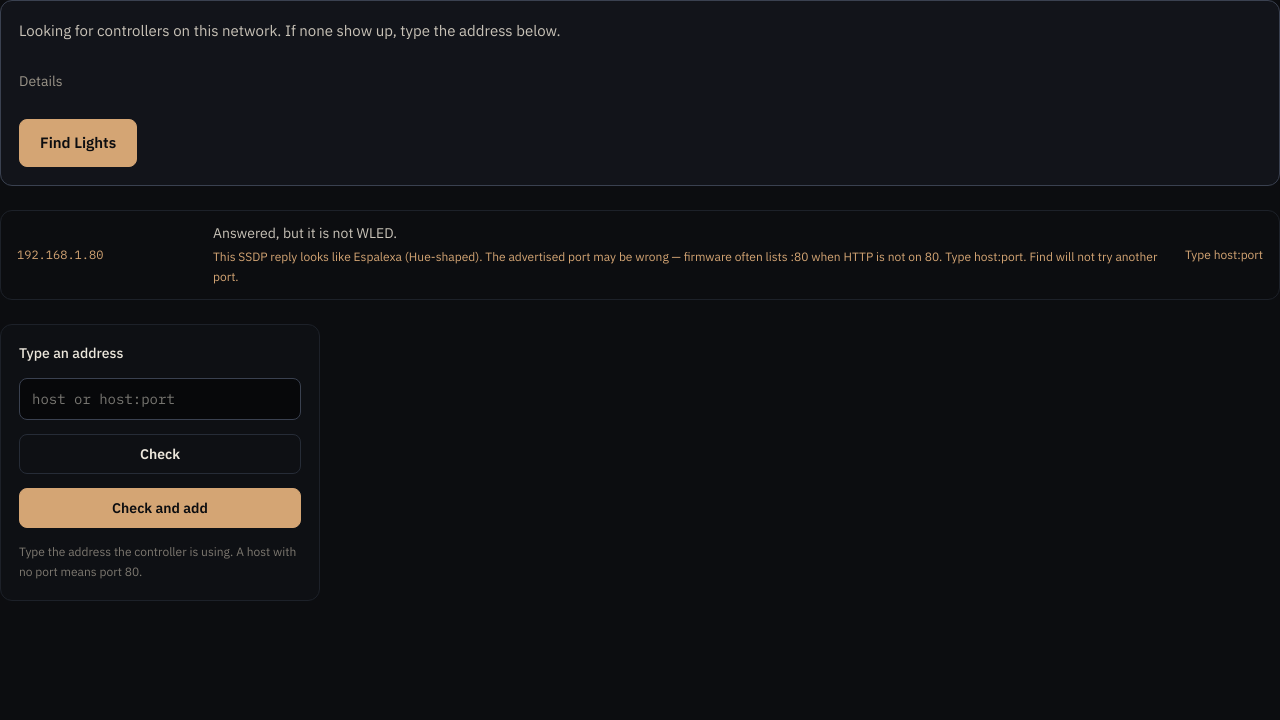
Test: DiscoverPanel portWarning › fills Type an address from the hatch without guessing a port
What coordinates should you click on to do the following:
click the button "Type host:port"
I would click on:
 (1224, 255)
Its box is [1185,247,1263,263].
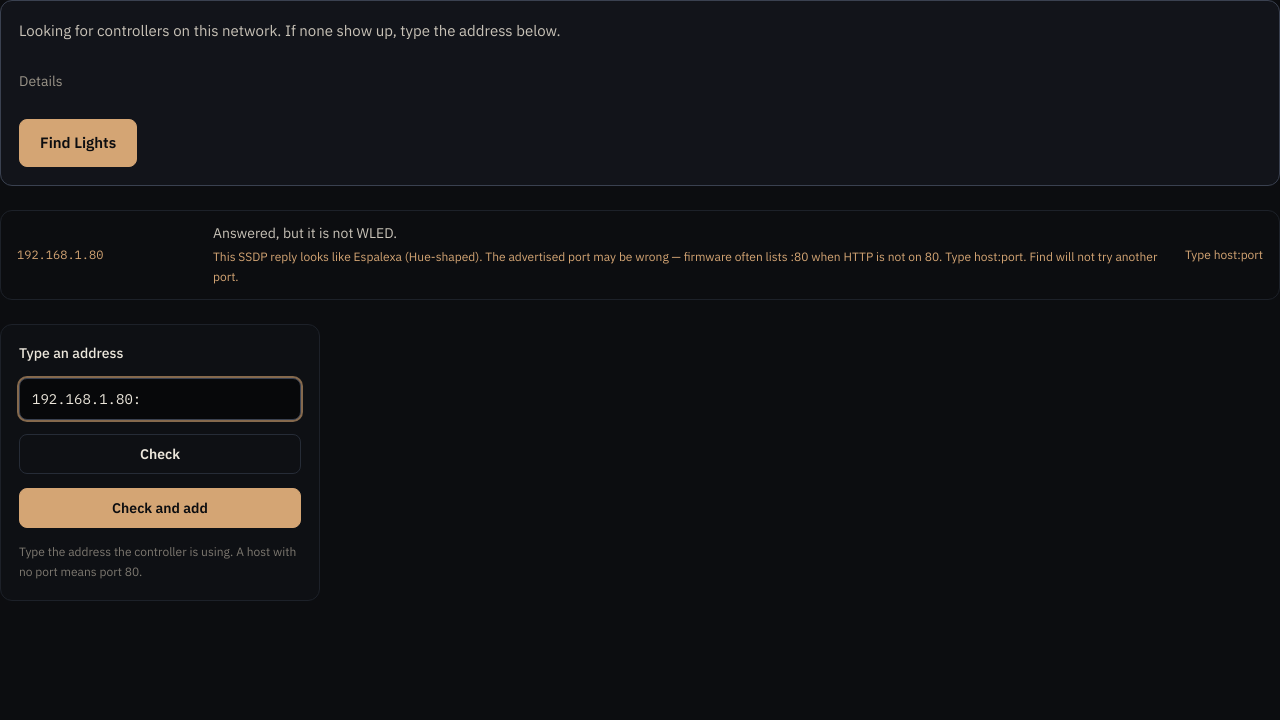
expect the field with placeholder "host or host:port" holds "192.168.1.80:": met, box [19,378,301,420]
